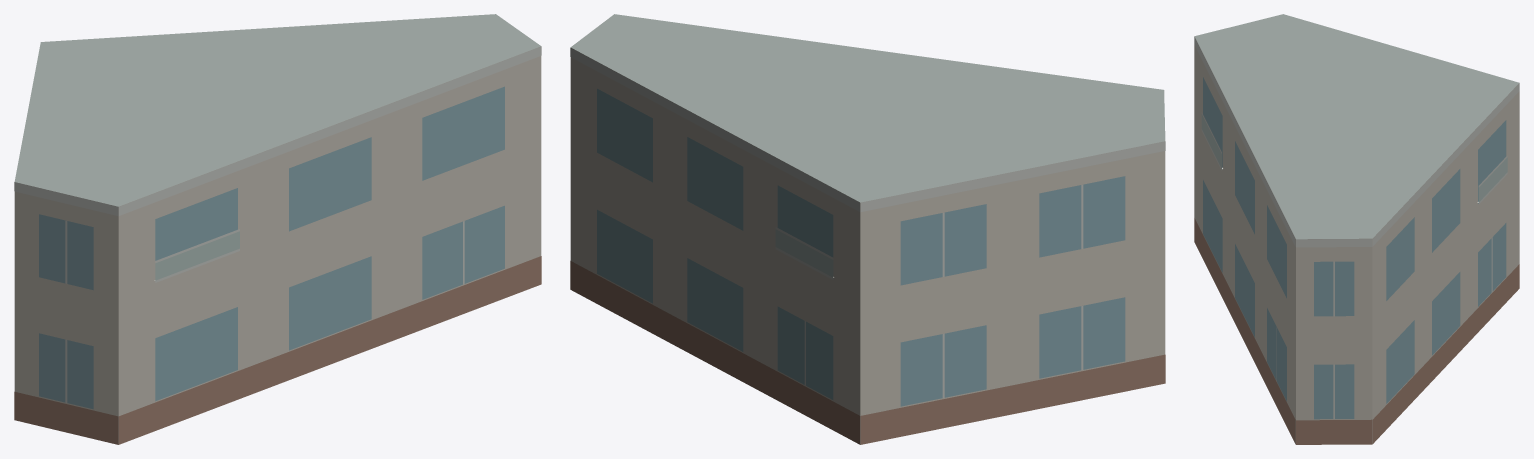
Rendered from survey-upis-32657970.glb.
3 views of the same model, side by side, from view 1: azimuth 30°, elevation 25°; view 2: azimuth 150°, elevation 25°; view 3: azimuth 270°, elevation 25° (orthographic). The views are drawn at different scales.
Visible parts, largest first — view 1: survey-upis-32657970.tmp; view 2: survey-upis-32657970.tmp; view 3: survey-upis-32657970.tmp.
Part boxes in pixels (bbox=[...]): survey-upis-32657970.tmp: bbox=[14, 14, 541, 444]; survey-upis-32657970.tmp: bbox=[570, 14, 1165, 444]; survey-upis-32657970.tmp: bbox=[1194, 14, 1519, 444].
Bounding box in the file's own units: 14.33 × 6.1 × 8.75.
